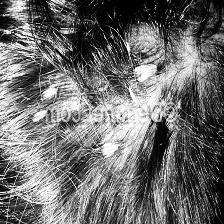Non-Cancerous Skin Condition: (31, 32, 166, 164)
